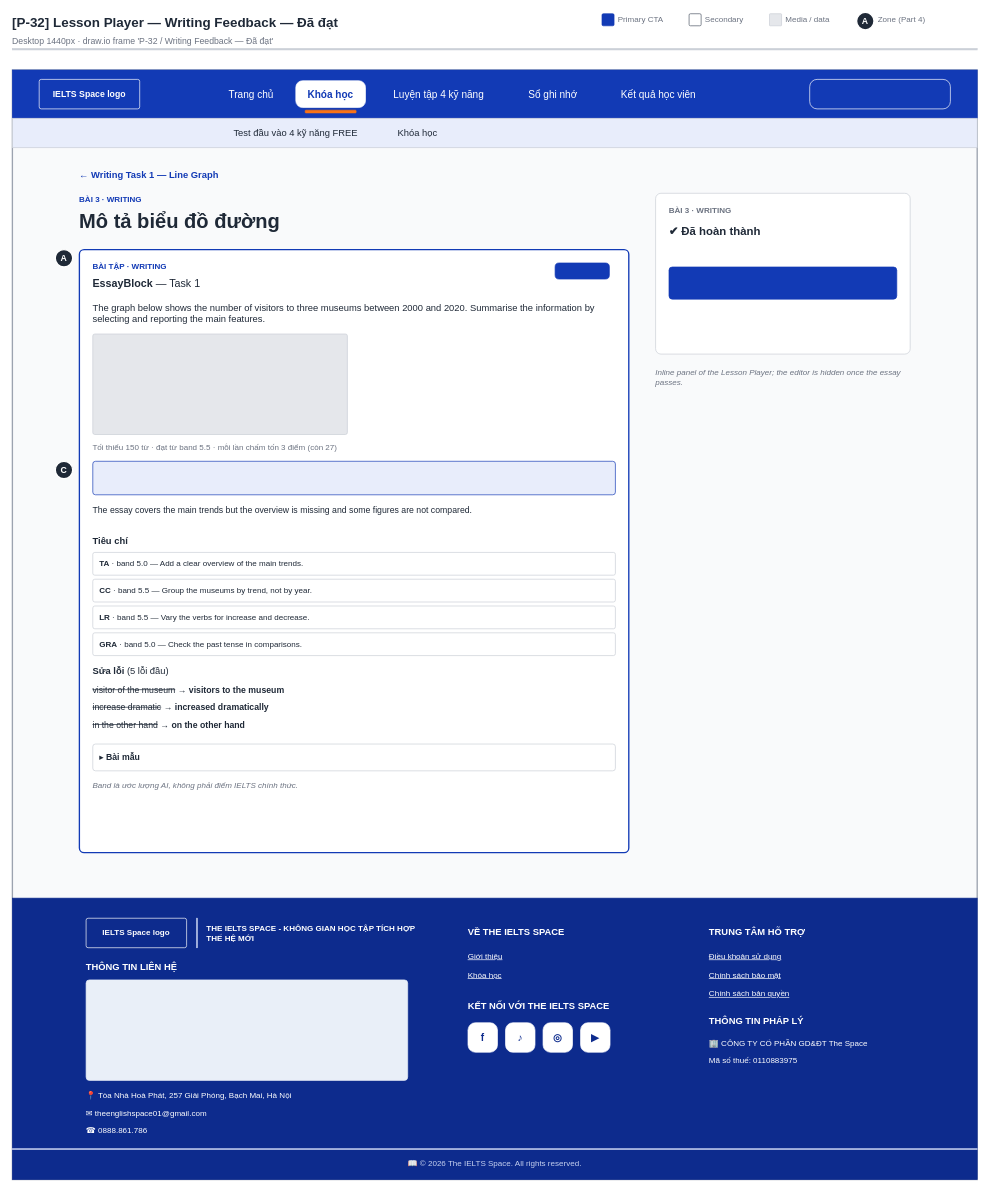
Image size: 990x1191. Some labels were removed from this diagram. The shapes that lost their labels are listed below. From the top down, each one's centre as x and y in pixels, then its label:
At point 879,94: "◯ Học viên · 30 Points ▾".
At point 581,270: "✔ Đã đạt".
At point 782,282: "Bài tiếp theo →".
At point 219,383: "▨ Biểu đồ đề bài".
At point 353,478: "Band ước lượng: 6.0 · Đạt".
At point 246,1029: "📍 The IELTS Space Mở trong Maps ↗".
